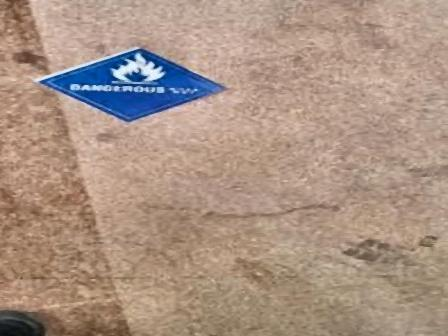dangerous-when-wet: (34, 47, 231, 126)
